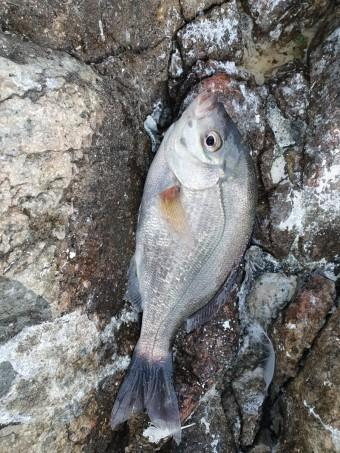fish: (110, 89, 257, 433)
